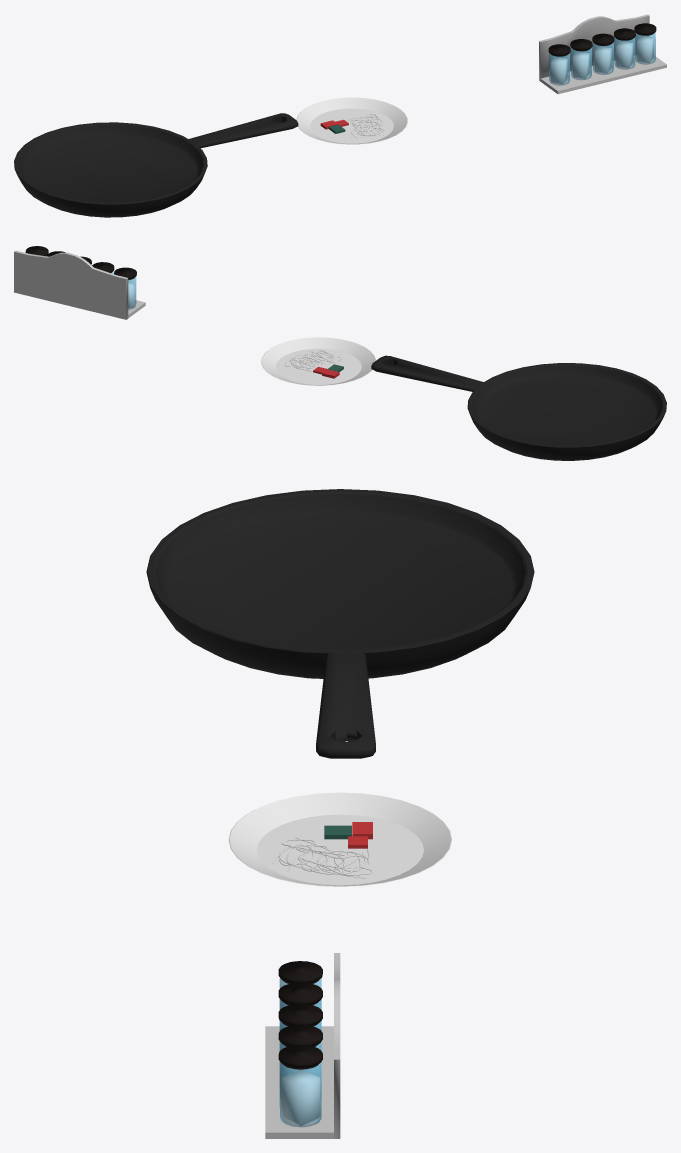
File: Props2.fbx
3 views of the same model, one above another, from view 1: azimuth 30°, elevation 25°; view 2: azimuth 150°, elevation 25°; view 3: azimuth 270°, elevation 25° (orthographic). The views are drawn at different scales.
Parts seen in each view (by area): view 1: House_Pan, House_Spices, House_Plate; view 2: House_Pan, House_Spices, House_Plate; view 3: House_Pan, House_Plate, House_Spices.
Part boxes in pixels (left/top/right/bottom): House_Pan: left=14, top=113, right=298, bottom=217; House_Spices: left=539, top=14, right=666, bottom=94; House_Plate: left=296, top=97, right=407, bottom=144; House_Pan: left=371, top=355, right=666, bottom=460; House_Spices: left=14, top=246, right=145, bottom=319; House_Plate: left=261, top=337, right=376, bottom=385; House_Pan: left=146, top=489, right=534, bottom=758; House_Plate: left=228, top=792, right=452, bottom=886; House_Spices: left=265, top=953, right=340, bottom=1138.
Size of the model in its own units: 258 by 19.89 by 69.66.
